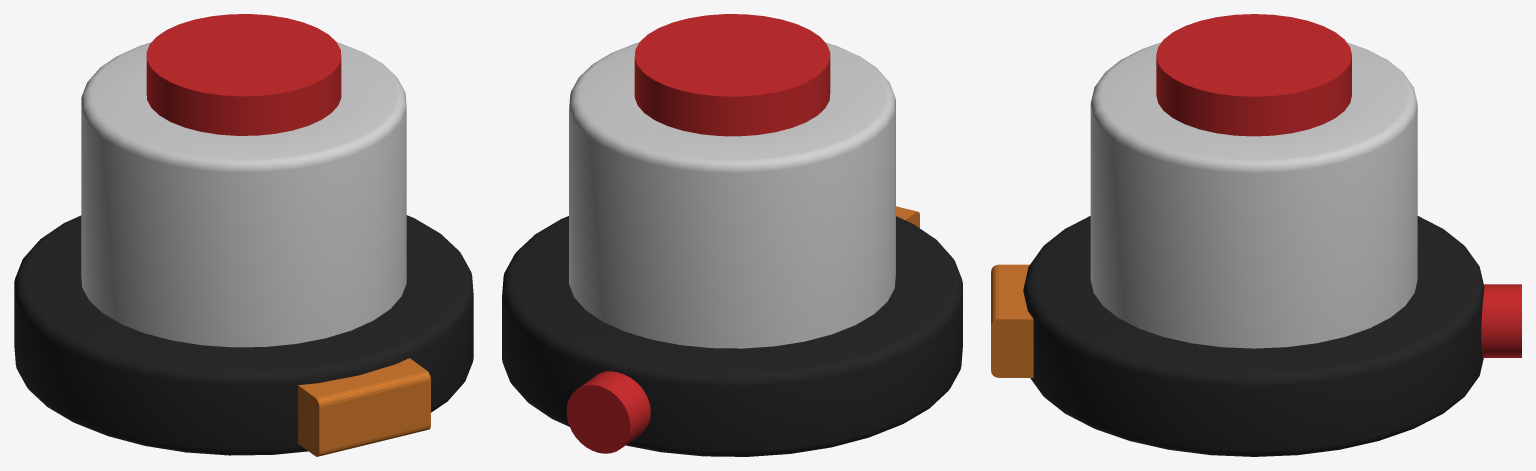
The model's file is pump.obj.
3 renders of one model, left to right at view 1: azimuth 30°, elevation 25°; view 2: azimuth 150°, elevation 25°; view 3: azimuth 270°, elevation 25°, orthographic.
Visible parts, largest first — view 1: Circle; view 2: Circle; view 3: Circle.
Boxes of the visible parts, bbox=[...] form: Circle: bbox=[14, 14, 473, 456]; Circle: bbox=[502, 14, 962, 456]; Circle: bbox=[991, 14, 1521, 456].
Bounding box in the file's own units: 2 × 1.47 × 2.3.
